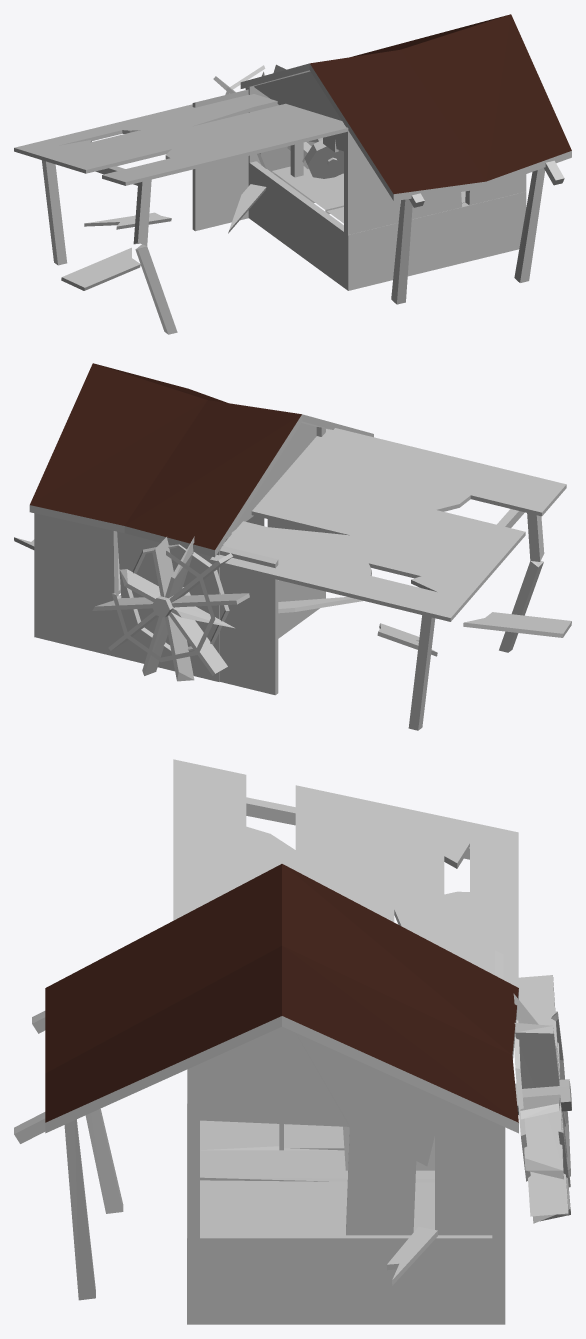
The model's file is OC_OLDSAWHOUSE_V1.OBJ.
3 views of the same model, one above another, from view 1: azimuth 30°, elevation 25°; view 2: azimuth 150°, elevation 25°; view 3: azimuth 270°, elevation 25° (orthographic). The views are drawn at different scales.
Visible parts, largest first — view 1: OC_OLDSAWHOUSE_V1; view 2: OC_OLDSAWHOUSE_V1; view 3: OC_OLDSAWHOUSE_V1.
Boxes of the visible parts, box(x1,y1,x2,y2) form: OC_OLDSAWHOUSE_V1: box(14, 14, 571, 334); OC_OLDSAWHOUSE_V1: box(14, 363, 571, 730); OC_OLDSAWHOUSE_V1: box(14, 759, 571, 1324).
Bounding box in the file's own units: 18.65 × 7.51 × 11.84.
